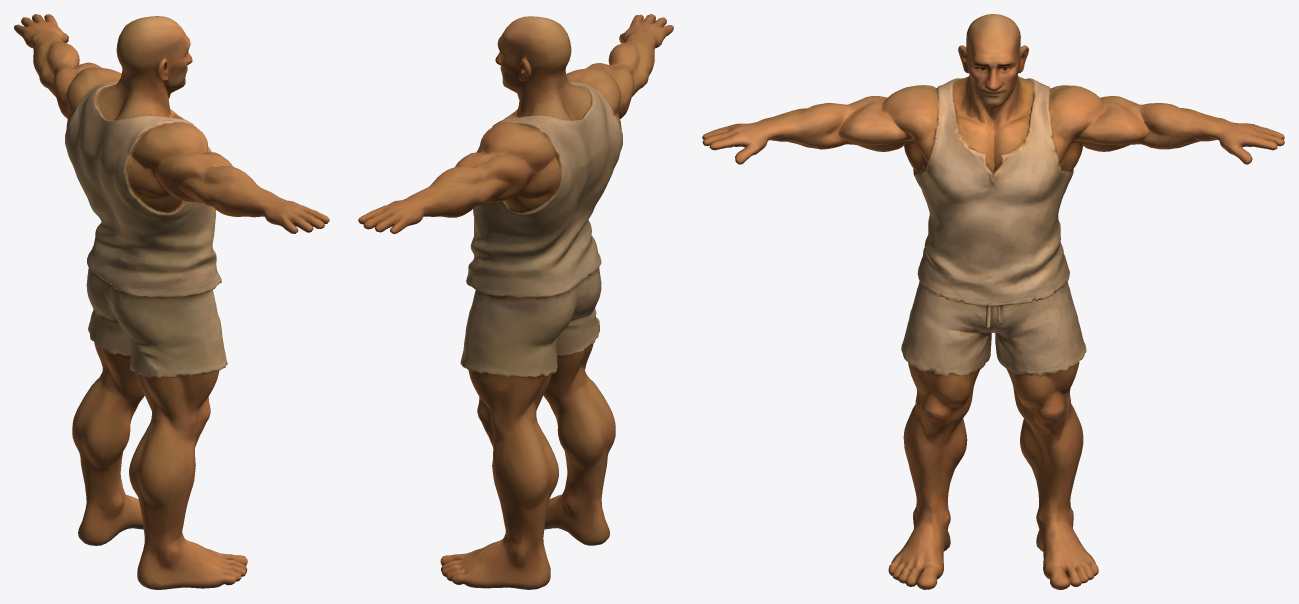
3 views of the same model, side by side, from view 1: azimuth 30°, elevation 25°; view 2: azimuth 150°, elevation 25°; view 3: azimuth 270°, elevation 25° (orthographic).
Visible parts, largest first — view 1: tripo_node_55fdc259-280c-4729-b972-48a7eee13051; view 2: tripo_node_55fdc259-280c-4729-b972-48a7eee13051; view 3: tripo_node_55fdc259-280c-4729-b972-48a7eee13051.
Boxes of the visible parts, <box> form: tripo_node_55fdc259-280c-4729-b972-48a7eee13051: <box>14,14,329,589</box>; tripo_node_55fdc259-280c-4729-b972-48a7eee13051: <box>358,14,673,589</box>; tripo_node_55fdc259-280c-4729-b972-48a7eee13051: <box>702,14,1284,589</box>.
Size of the model in its own units: 0.2333 by 1 by 0.9662.
1 material, 1 textured.
